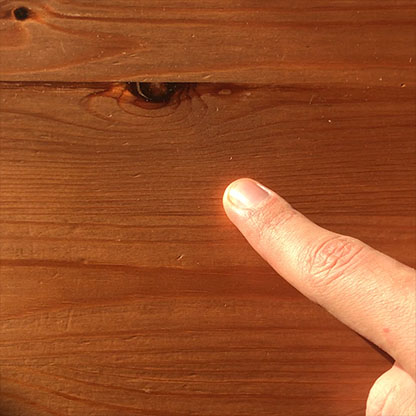fingertip: (210, 168, 285, 226)
